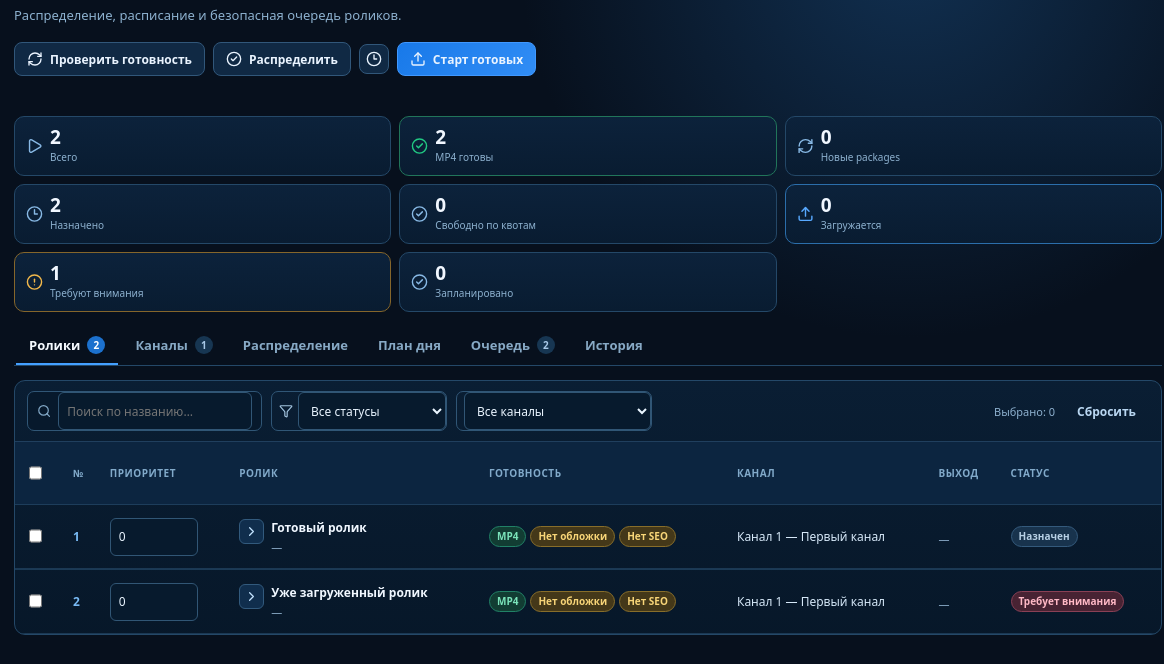
Test: PublicationPage interactions › can undo a manual distribution edit before confirmation
Click the button "Распределить": click(282, 59) 213,42 -> 351,76
(page scrolled)
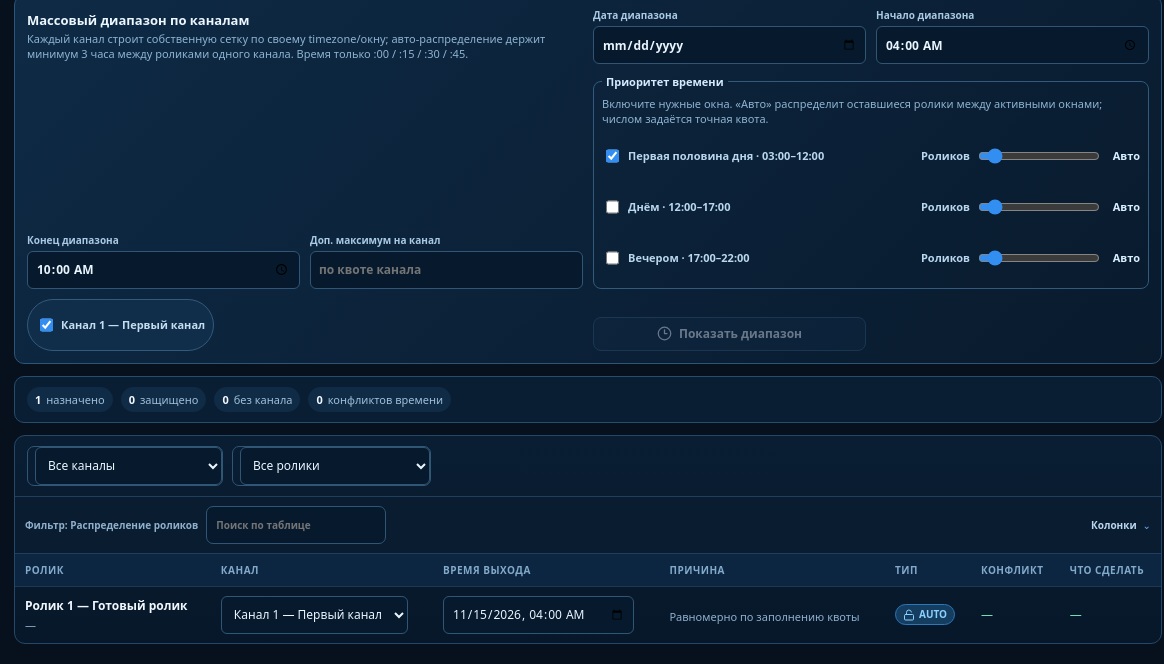
Select "Не назначен" in the dropdown named "Канал для Готовый ролик": (314, 615) 221,596 -> 408,634
(page scrolled)
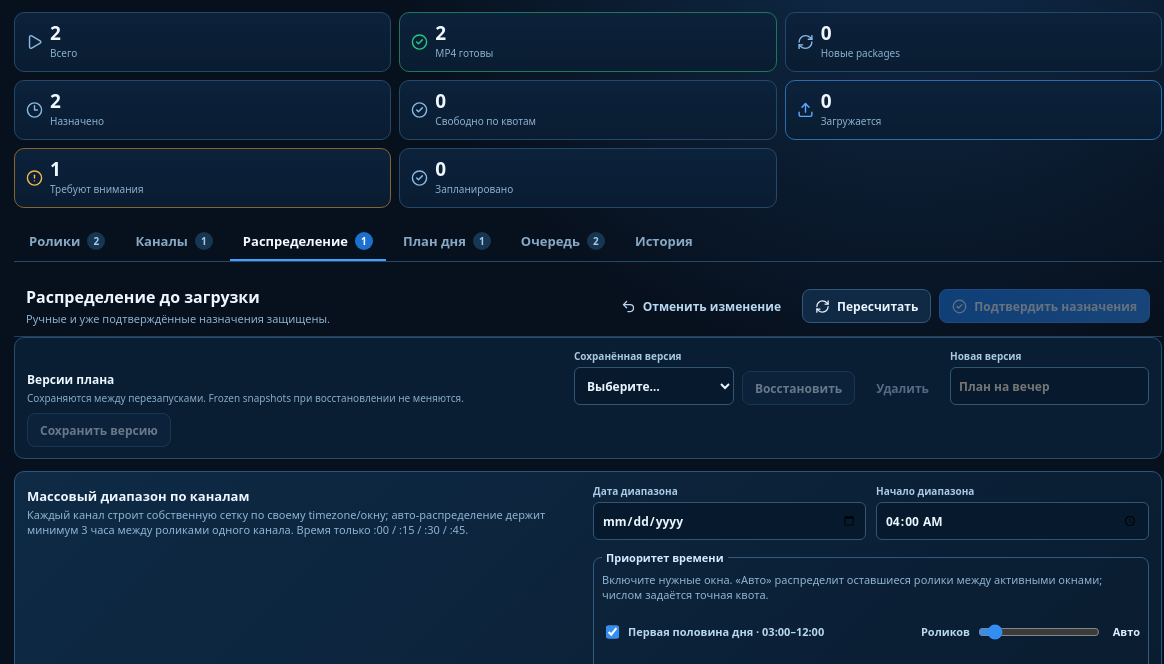
Click the button "Отменить изменение": click(701, 306) 608,289 -> 794,323
(page scrolled)
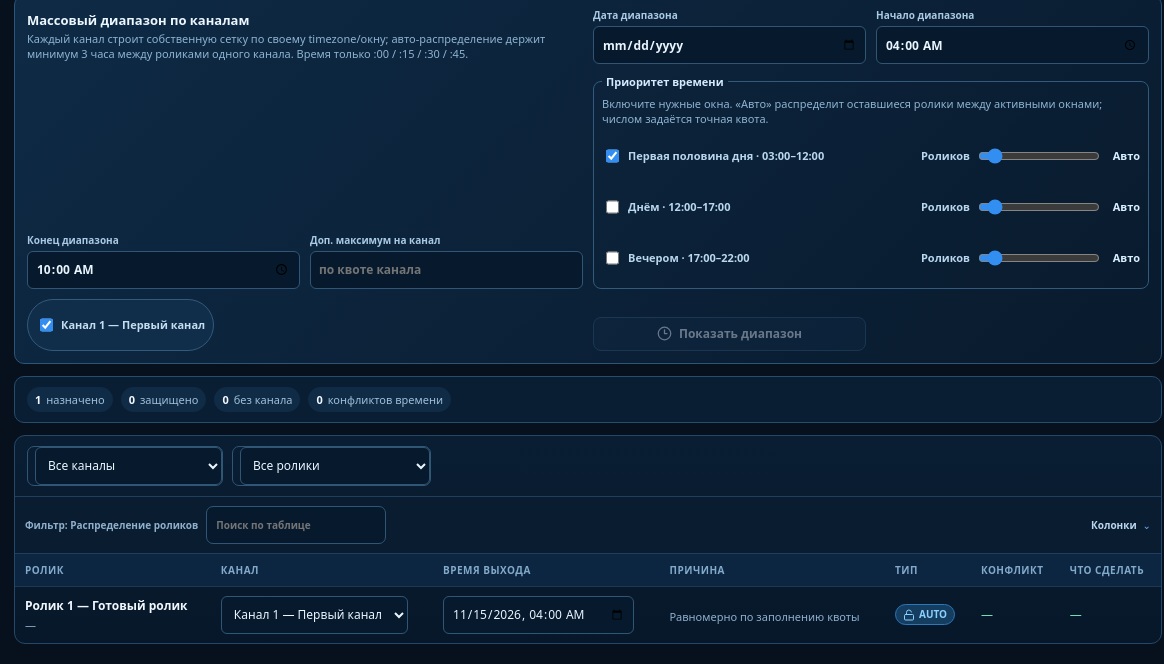
Check: the dropdown named "Канал для Готовый ролик" shows "Канал 1 — Первый канал", box 221,596 -> 408,634
